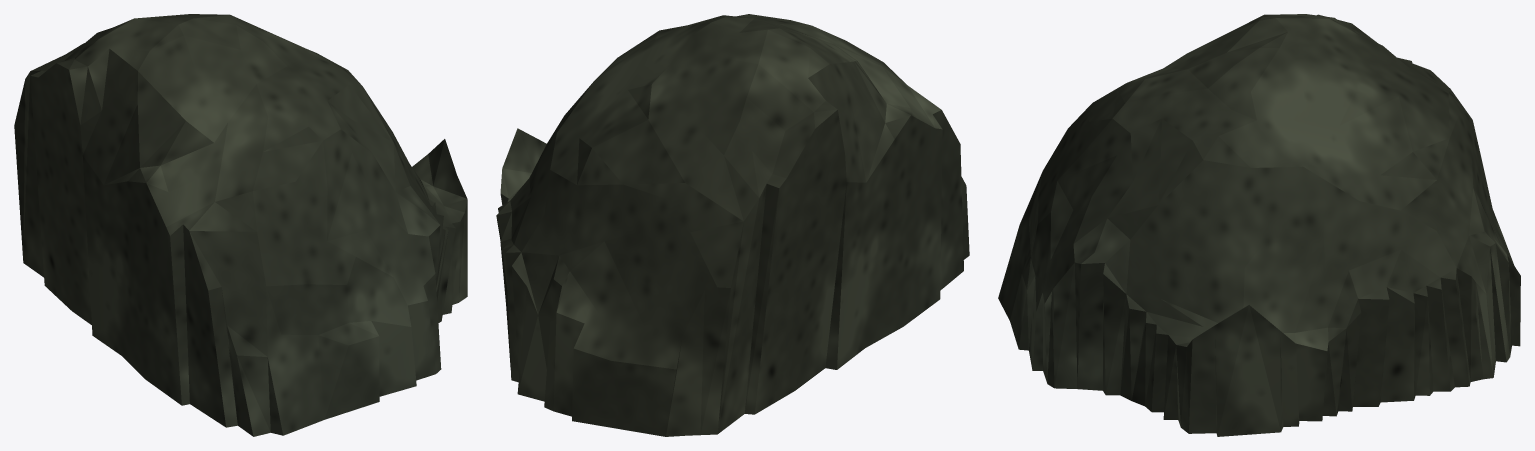
File: CRERock09.glb
The picture shows the model from 3 angles, left to right: view 1: azimuth 30°, elevation 25°; view 2: azimuth 150°, elevation 25°; view 3: azimuth 270°, elevation 25°; orthographic projection. The views are drawn at different scales.
Visible parts, largest first — view 1: CRERock09_rock; view 2: CRERock09_rock; view 3: CRERock09_rock.
Boxes of the visible parts, x1=… form: CRERock09_rock: x1=14, y1=14, x2=467, y2=436; CRERock09_rock: x1=496, y1=14, x2=969, y2=436; CRERock09_rock: x1=998, y1=14, x2=1520, y2=436.
Size of the model in its own units: 1.88 by 1.58 by 2.52.
1 material, 1 textured.
